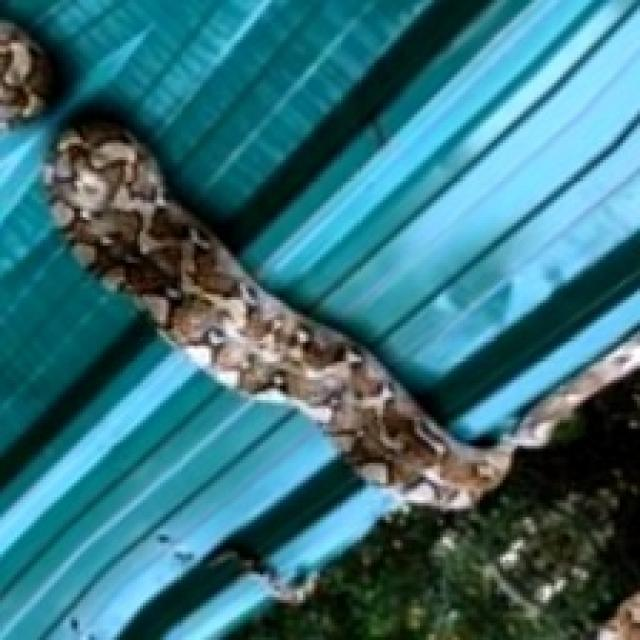reticulated python: (46, 117, 637, 509)
